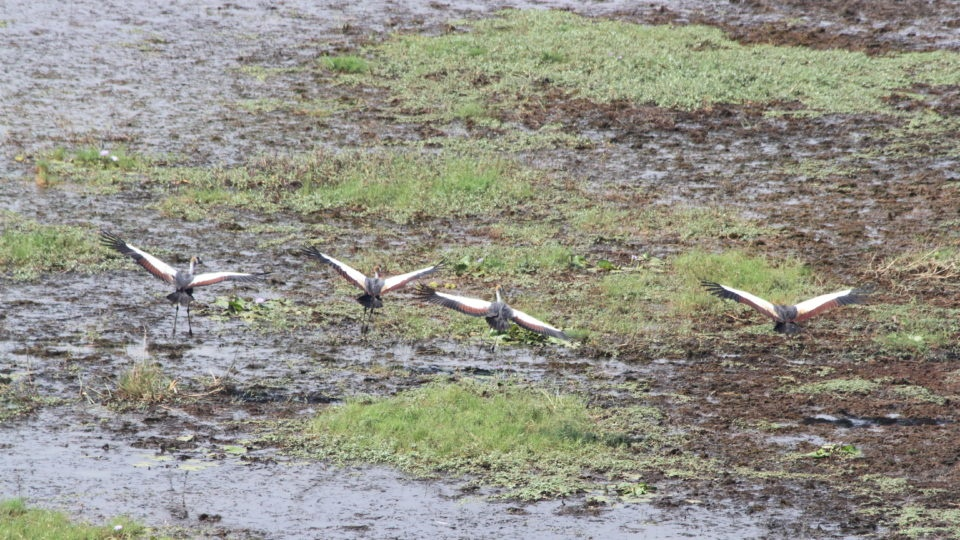bird: (91, 220, 259, 345), (297, 234, 440, 355), (689, 264, 874, 356), (402, 276, 589, 364)
